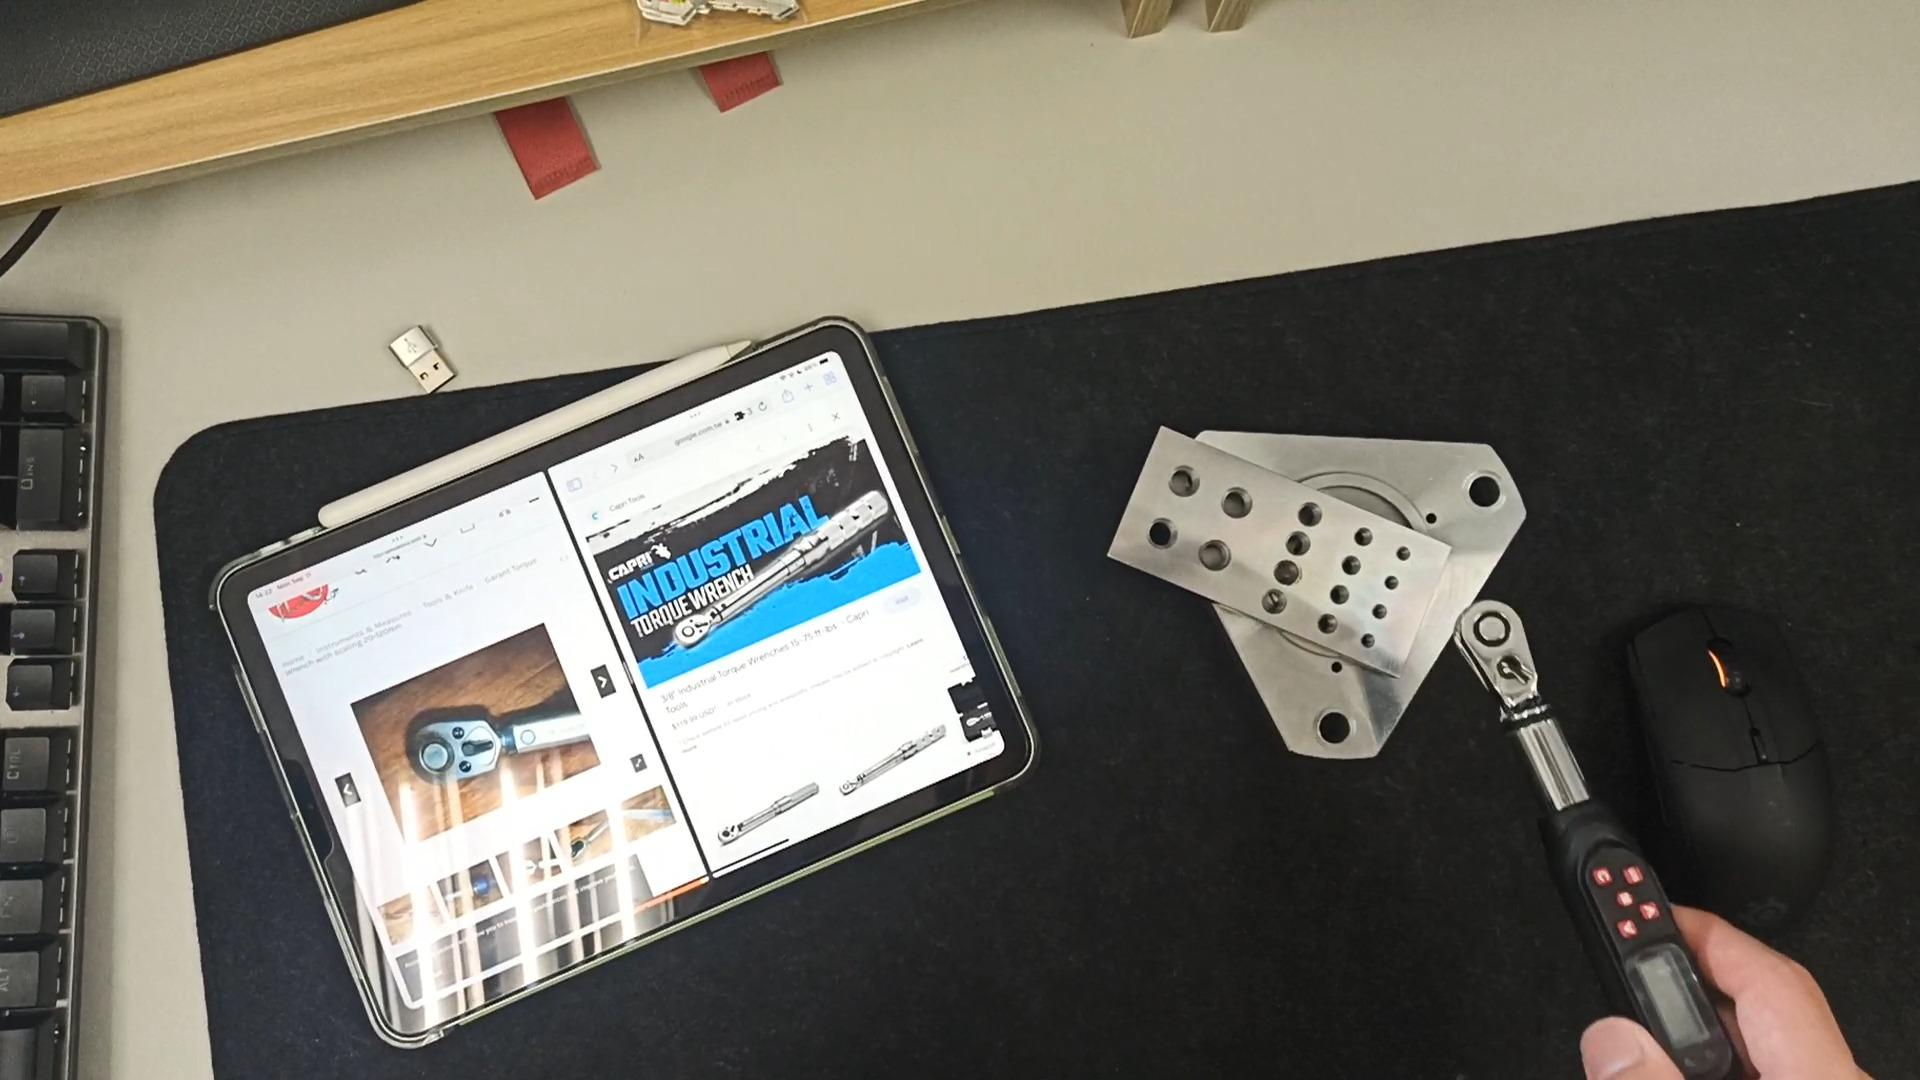Tool: (1455, 597, 1552, 715), (405, 723, 501, 785), (670, 612, 712, 650)
hole: (1291, 702, 1364, 749), (1455, 471, 1514, 516), (1130, 510, 1182, 547), (1189, 539, 1241, 576), (1159, 462, 1211, 496), (1211, 484, 1259, 516), (1265, 558, 1307, 585), (1278, 531, 1321, 558), (1290, 502, 1332, 527), (1309, 609, 1350, 634), (1251, 589, 1291, 615), (1331, 555, 1367, 578), (1321, 582, 1357, 604), (1344, 525, 1378, 546), (1354, 630, 1389, 650), (1375, 574, 1408, 592), (1389, 543, 1422, 562), (1360, 601, 1391, 620)
